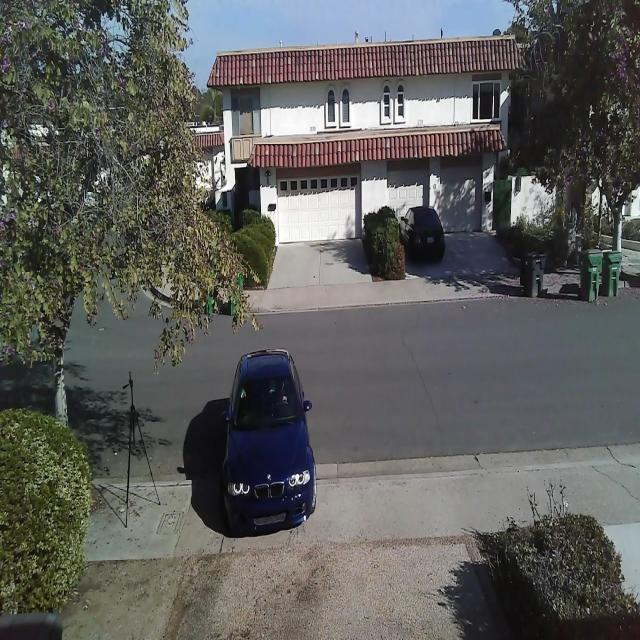Carbeetle: (207, 339, 328, 555)
